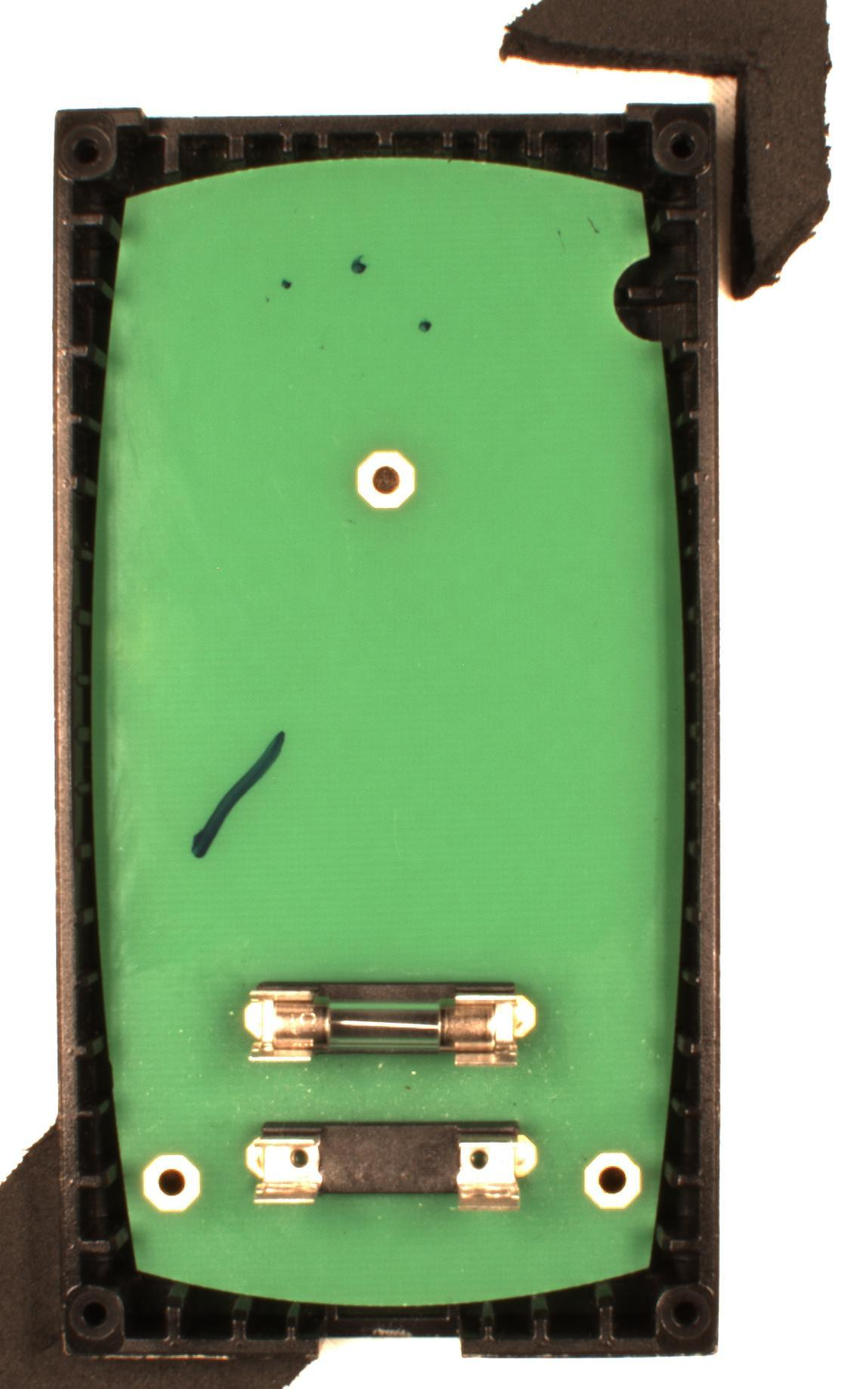Linijsko Ostecene: (186, 728, 291, 864)
Nepostojanje osiguraca: (242, 1116, 539, 1215)
Tockasto Ostecenje: (347, 254, 367, 277), (414, 315, 433, 335), (278, 277, 295, 293)
